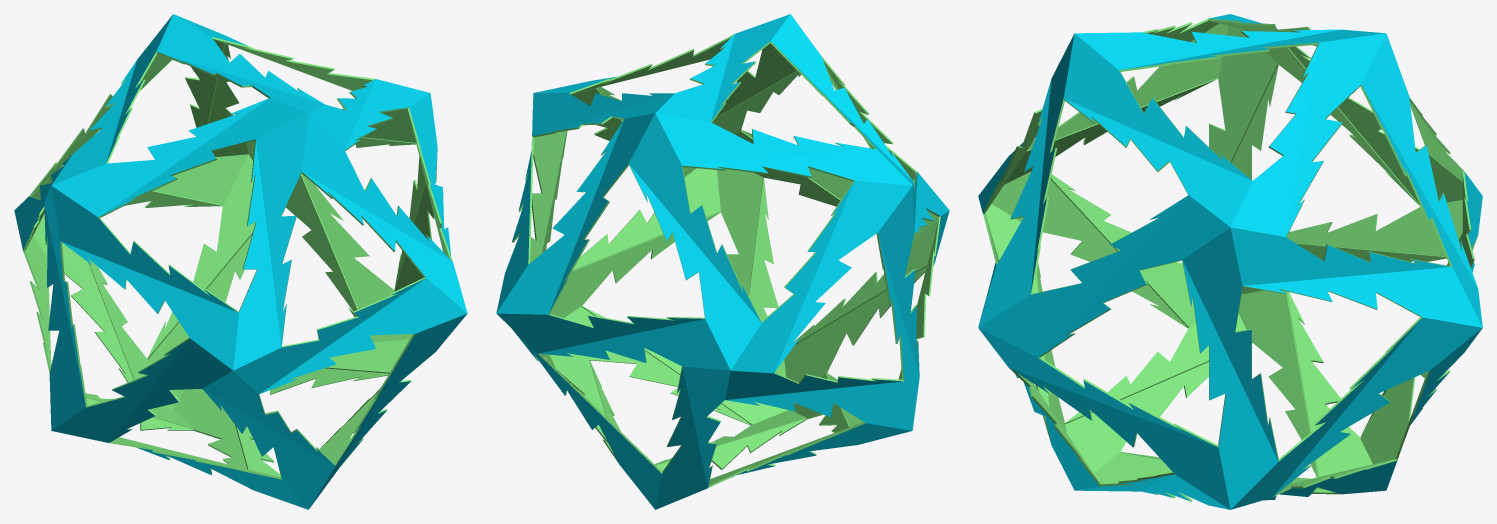
The model's file is Icosahedron2.glb.
The picture shows the model from 3 angles, left to right: view 1: azimuth 30°, elevation 25°; view 2: azimuth 150°, elevation 25°; view 3: azimuth 270°, elevation 25°; orthographic projection. The views are drawn at different scales.
Parts seen in each view (by area): view 1: root; view 2: root; view 3: root.
Part boxes in pixels (x1,y1,x2,y2): root: (14,14,467,509); root: (496,14,949,509); root: (978,14,1482,509).
Size of the model in its own units: 4.85 by 4.85 by 4.85.
